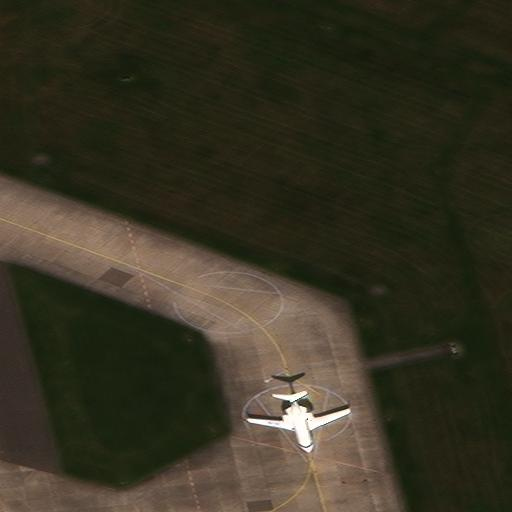Medium Civil Transport: (248, 390, 352, 455)
